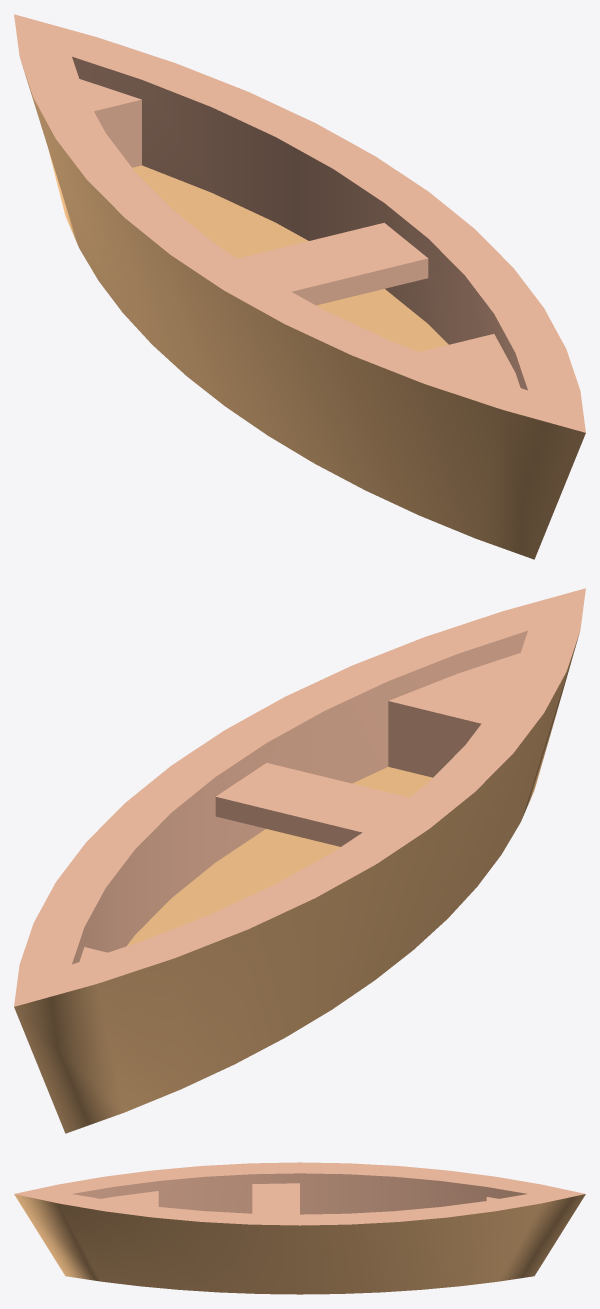
The model's file is canoe.gltf.
The picture shows the model from 3 angles, top to bottom: view 1: azimuth 30°, elevation 25°; view 2: azimuth 150°, elevation 25°; view 3: azimuth 270°, elevation 25°; orthographic projection. The views are drawn at different scales.
Visible parts, largest first — view 1: canoe; view 2: canoe; view 3: canoe.
Boxes of the visible parts, left/top/right/bottom form: canoe: left=14, top=14, right=585, bottom=559; canoe: left=14, top=588, right=585, bottom=1133; canoe: left=14, top=1162, right=585, bottom=1294.
Bounding box in the file's own units: 0.3 × 0.1825 × 1.15.
